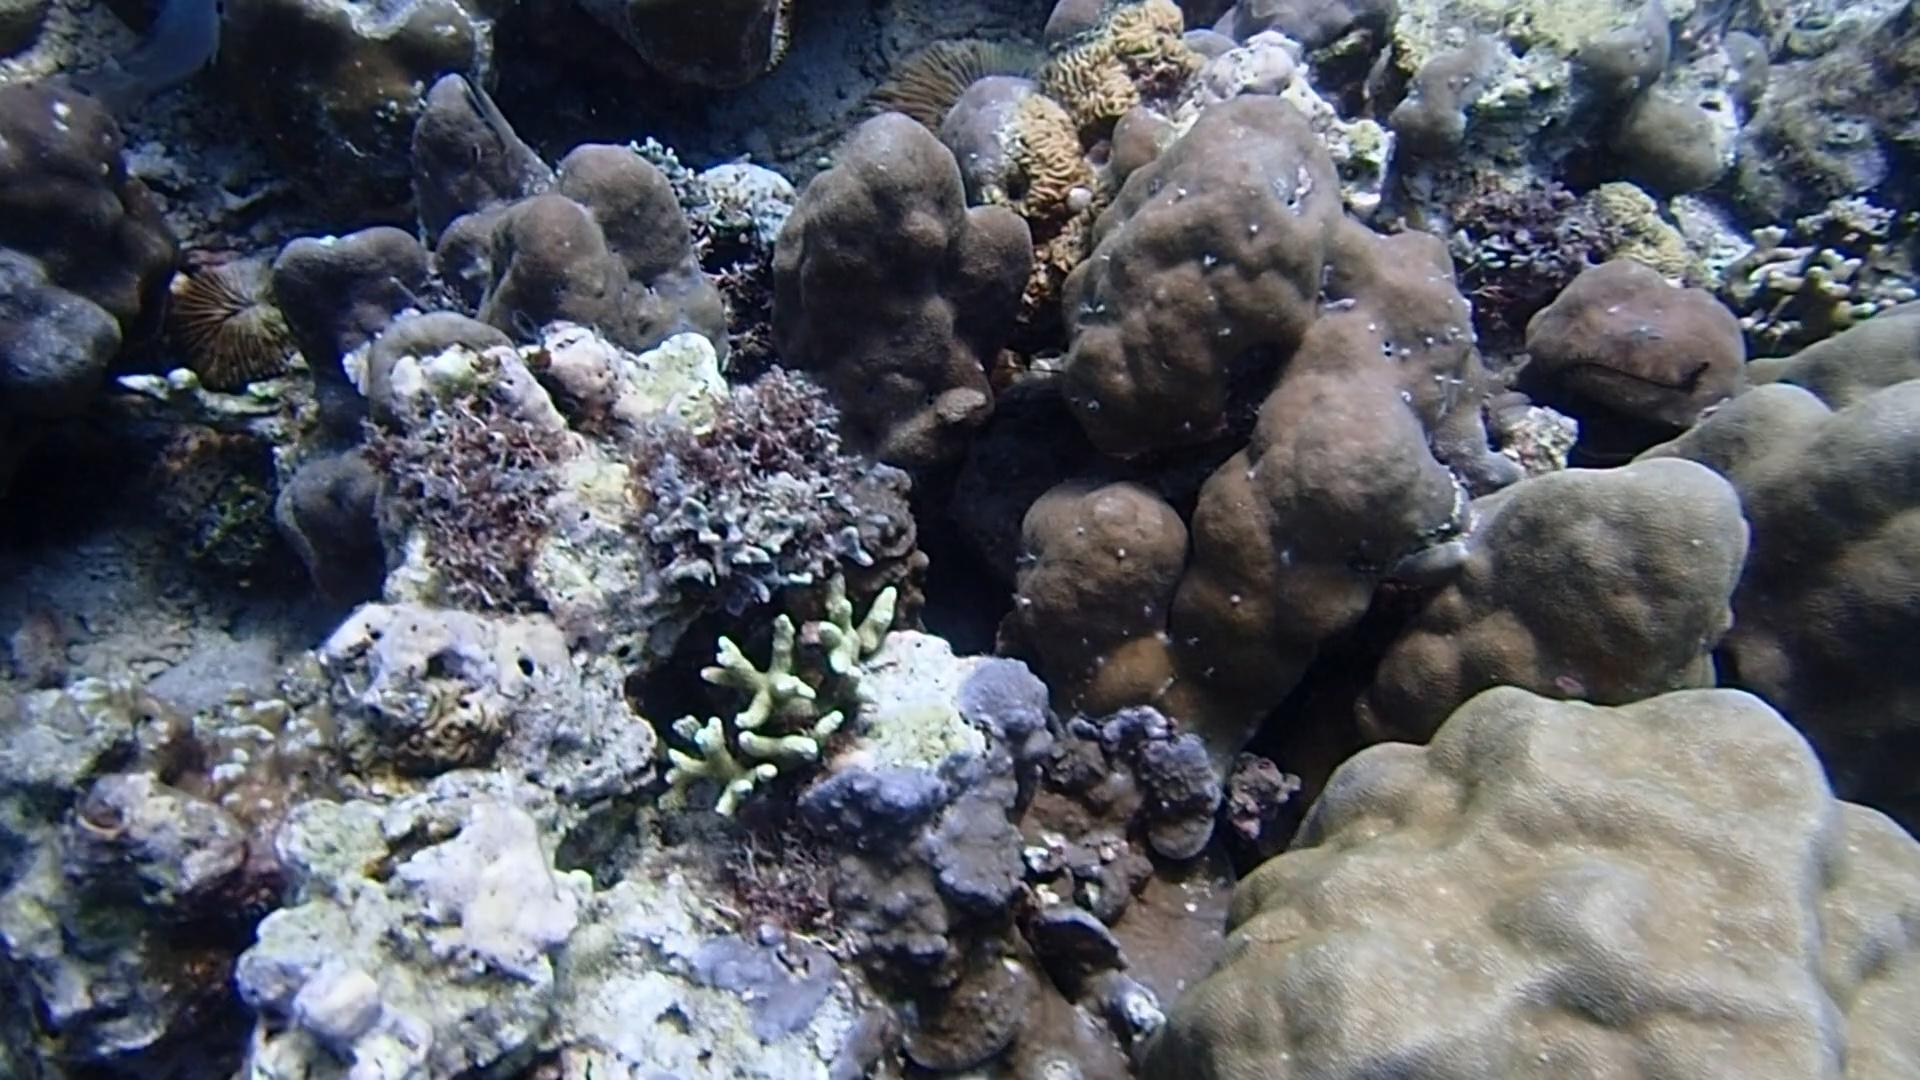Blue Fish Two: (87, 0, 229, 117)
